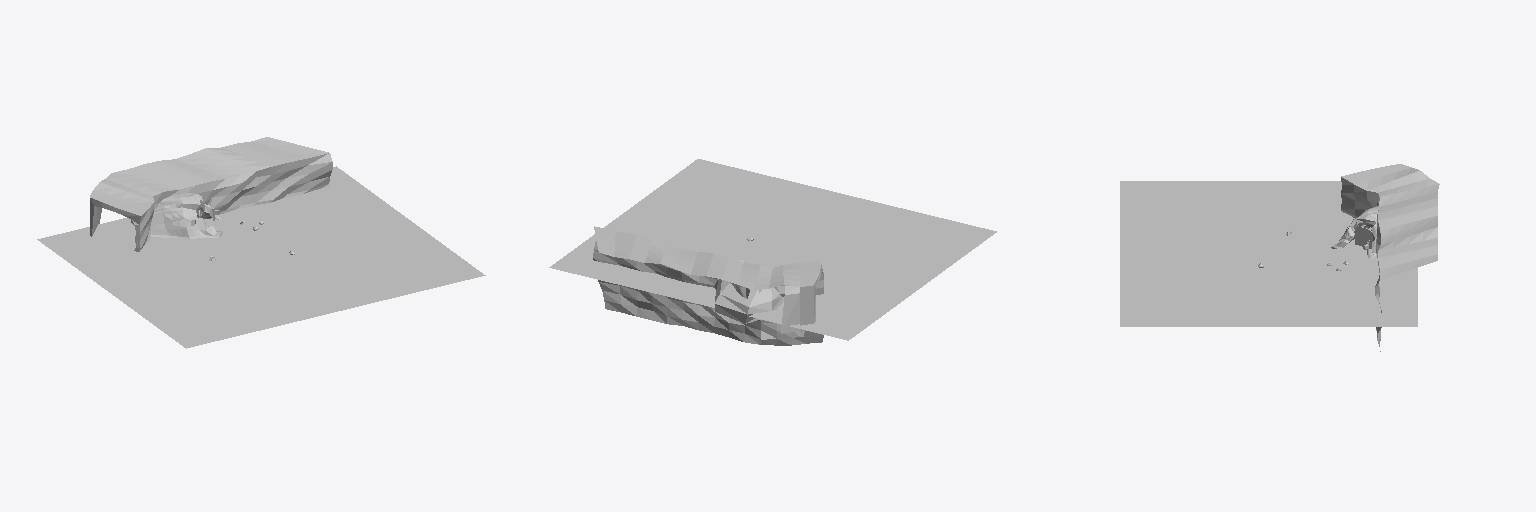
Rendered from SceneOutside.obj.
The picture shows the model from 3 angles: view 1: azimuth 30°, elevation 25°; view 2: azimuth 150°, elevation 25°; view 3: azimuth 270°, elevation 25°; orthographic projection.
Parts seen in each view (by area): view 1: pPlane3, polySurface4, polySurface40; view 2: pPlane3, polySurface4; view 3: pPlane3, polySurface4, polySurface40.
Part boxes in pixels (x1,y1,x2,y2): pPlane3: (37,166,485,348); polySurface4: (90,137,332,251); polySurface40: (151,193,222,238); pPlane3: (549,159,996,340); polySurface4: (593,226,823,345); pPlane3: (1120,181,1417,326); polySurface4: (1341,164,1439,351); polySurface40: (1331,206,1378,258).
Size of the model in its own units: 28.97 by 8.06 by 26.75.